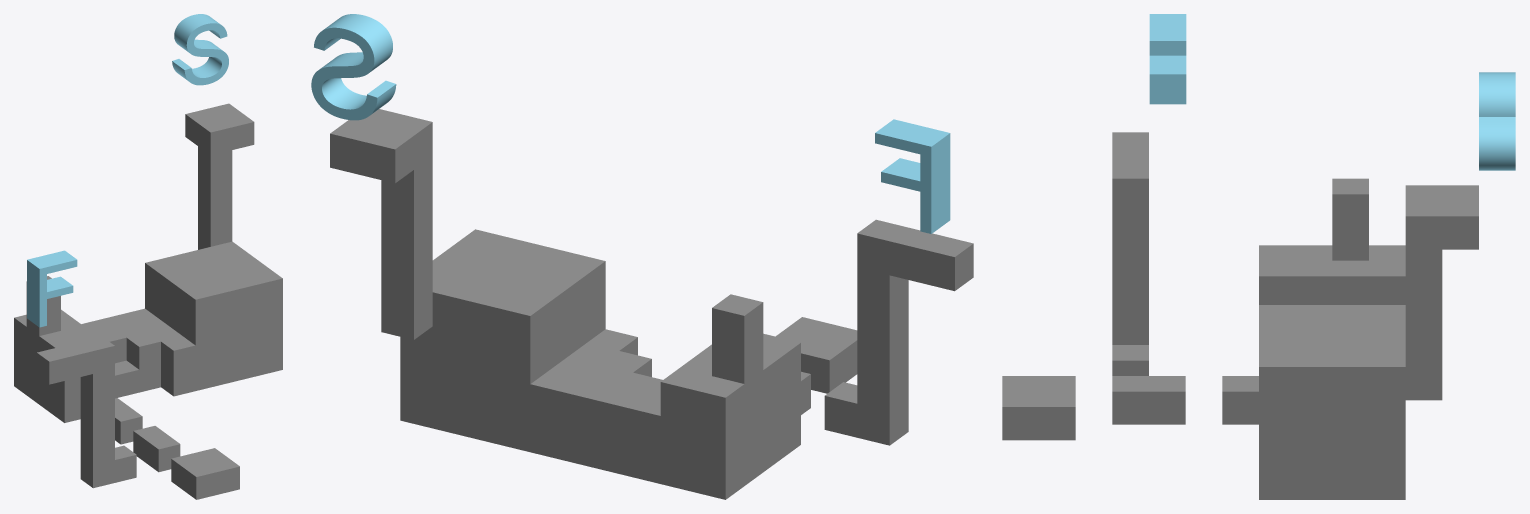
The model's file is level003.FBX.
3 renders of one model, left to right at view 1: azimuth 30°, elevation 25°; view 2: azimuth 150°, elevation 25°; view 3: azimuth 270°, elevation 25°, orthographic. The views are drawn at different scales.
Visible parts, largest first — view 1: Object01, Object03, Object06, Object04, Object05, Text01, Text02, Box04; view 2: Object01, Object04, Object06, Object03, Text01, Text02, Object05; view 3: Object01, Object04, Object06, Object05, Text01, Box04, Text02, Object03.
Boxes of the visible parts, box(x1,y1,x2,y2) form: Object01: box(145, 103, 282, 390); Object03: box(81, 308, 195, 444); Object06: box(36, 336, 136, 488); Object04: box(14, 276, 98, 422); Object05: box(171, 448, 239, 499); Text01: box(172, 14, 228, 85); Text02: box(27, 250, 77, 327); Box04: box(133, 426, 180, 472); Object01: box(330, 109, 605, 451); Object04: box(660, 294, 800, 499); Object06: box(824, 219, 973, 445); Object03: box(530, 329, 662, 483); Text01: box(311, 14, 396, 120); Text02: box(875, 119, 950, 233); Object05: box(775, 317, 857, 393); Object01: box(1259, 185, 1478, 499); Object04: box(1259, 178, 1405, 304); Object06: box(1112, 132, 1148, 375); Object05: box(1002, 376, 1075, 440); Text01: box(1479, 72, 1515, 170); Box04: box(1112, 376, 1185, 424); Text02: box(1149, 14, 1186, 104); Object03: box(1222, 376, 1258, 424).
Size of the model in its own units: 14 by 14 by 13.71.
